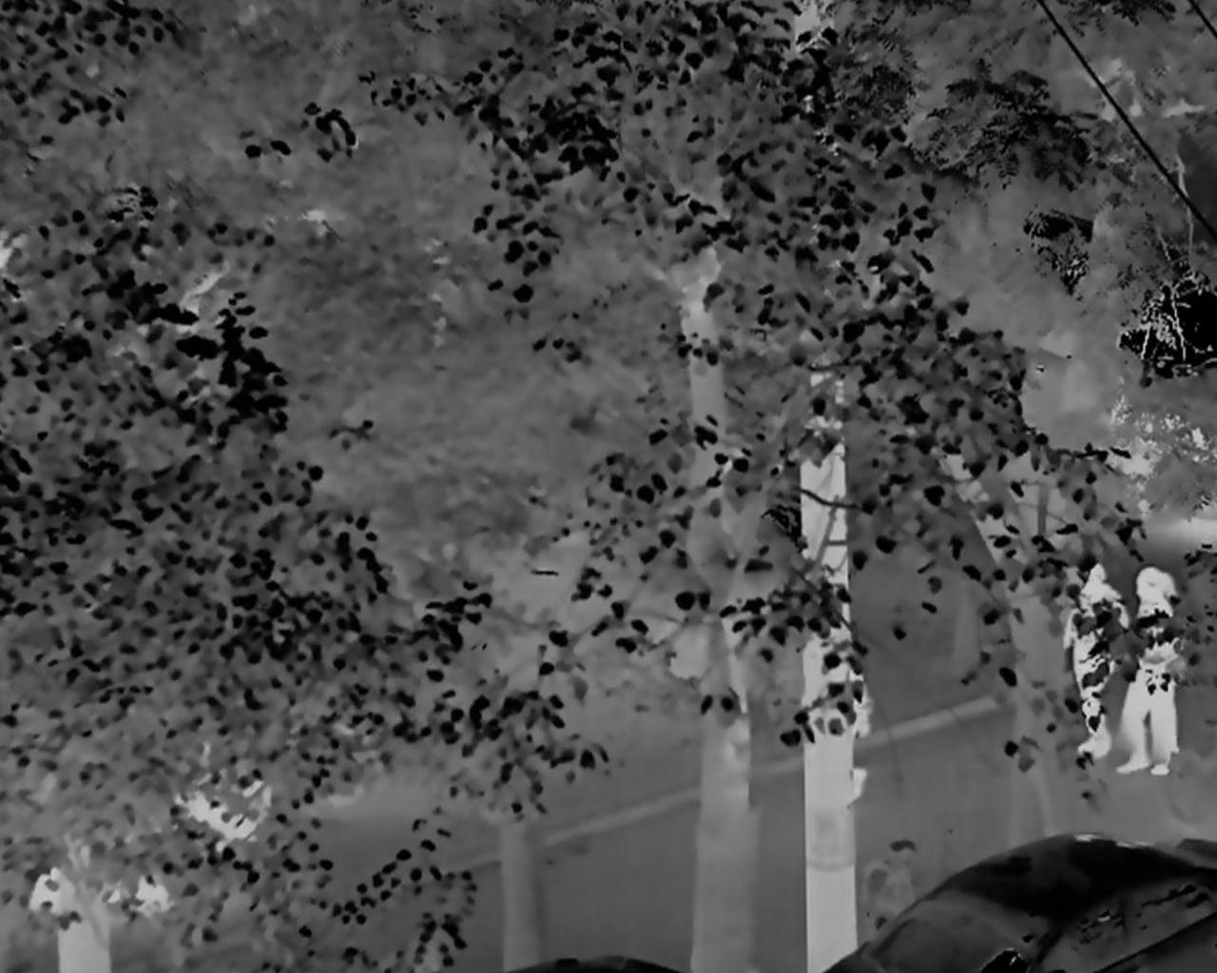person: (1117, 566, 1176, 780), (1063, 557, 1114, 763)
